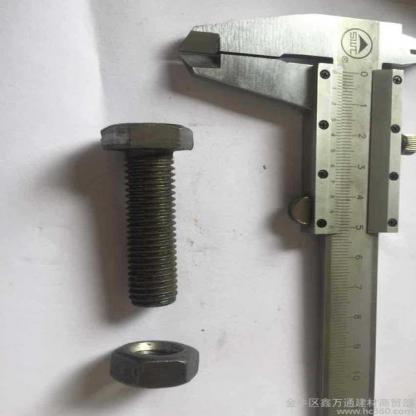FOD: (96, 121, 196, 316), (106, 338, 204, 390)
